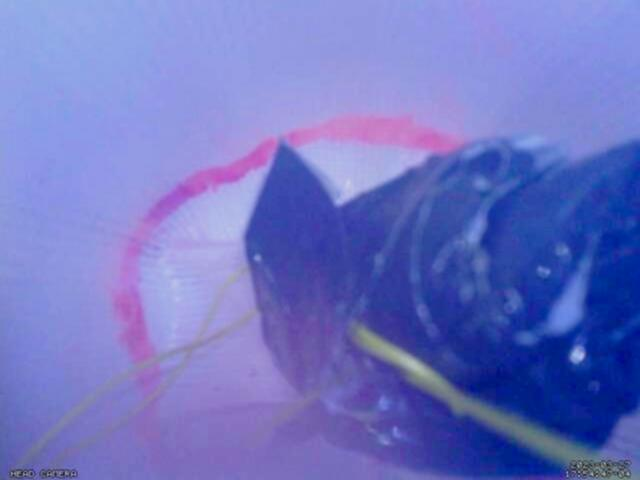head: (112, 112, 465, 480)
